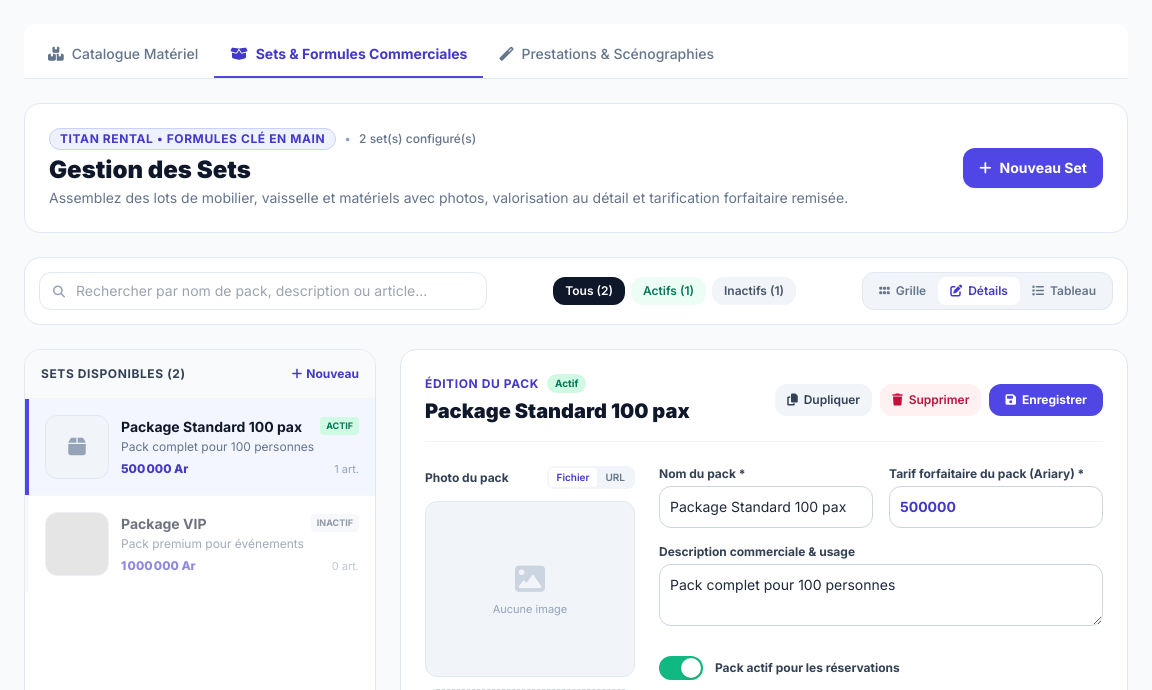
Test: PackageBuilderPage › 5. Ajouter du matériel ouvre la modale
# Select a pack in list
Click the heading "Package Standard 100 pax" below "Sets disponibles (" at (212, 427), box [121,417,302,437]
(page scrolled)
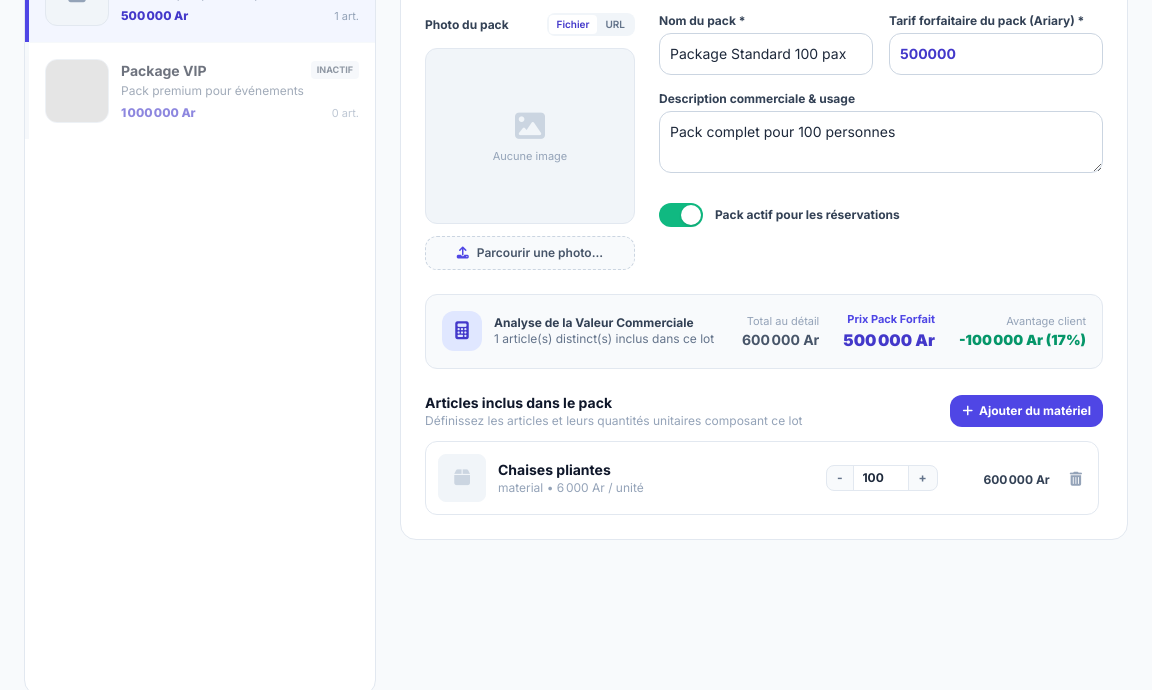
Click the button "Ajouter du matériel" at (1027, 410), box [950,394,1103,426]
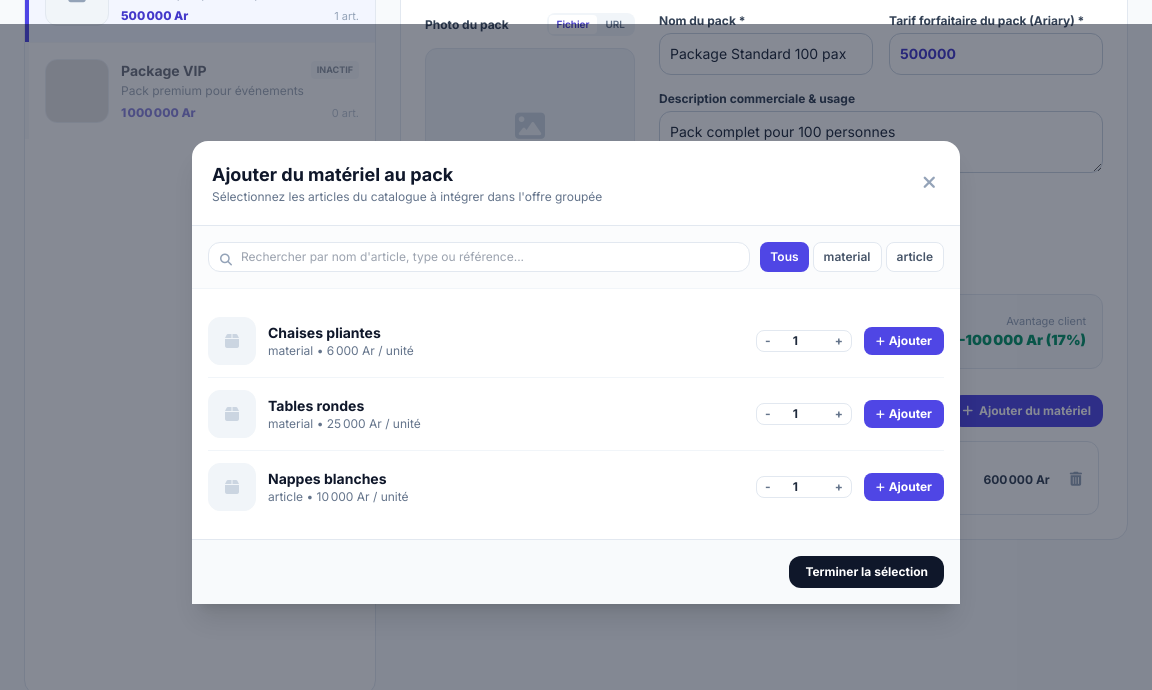
Result: the heading "Ajouter du matériel au pack" is shown at [212,164,453,184]
Result: the field with placeholder "Rechercher par nom d'article, type ou référence..." is shown at [208,242,750,272]
